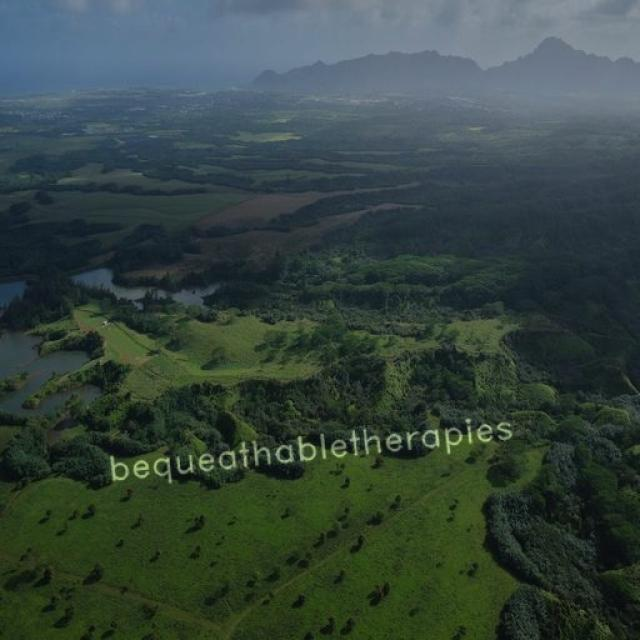watermark: (100, 411, 514, 486)
